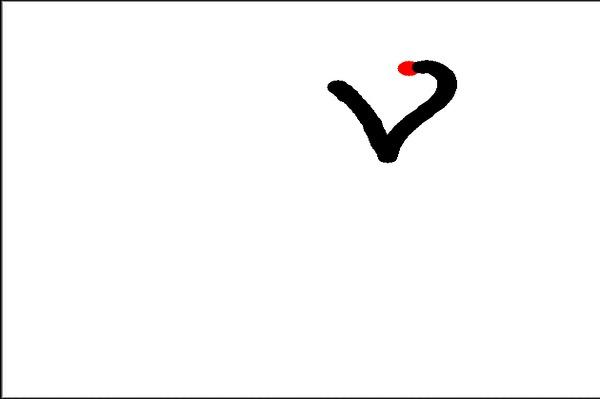V: (320, 54, 464, 165)
